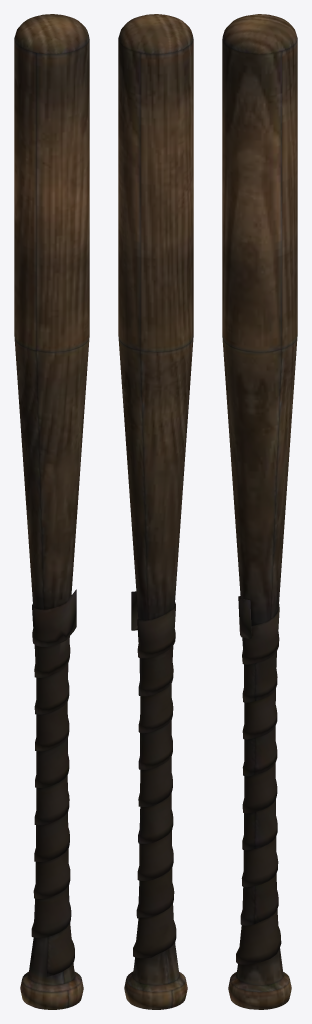
Rendered from baseball_bat.glb.
The picture shows the model from 3 angles, left to right: view 1: azimuth 30°, elevation 25°; view 2: azimuth 210°, elevation 25°; view 3: azimuth 270°, elevation 25°; orthographic projection.
Visible parts, largest first — view 1: baseball_bat; view 2: baseball_bat; view 3: baseball_bat.
Boxes of the visible parts, bbox=[...] form: baseball_bat: bbox=[14, 14, 89, 1009]; baseball_bat: bbox=[118, 14, 193, 1009]; baseball_bat: bbox=[222, 14, 297, 1009].
Bounding box in the file's own units: 0.0635 × 0.9132 × 0.0635.
Materials: 1 (1 with a texture image).
